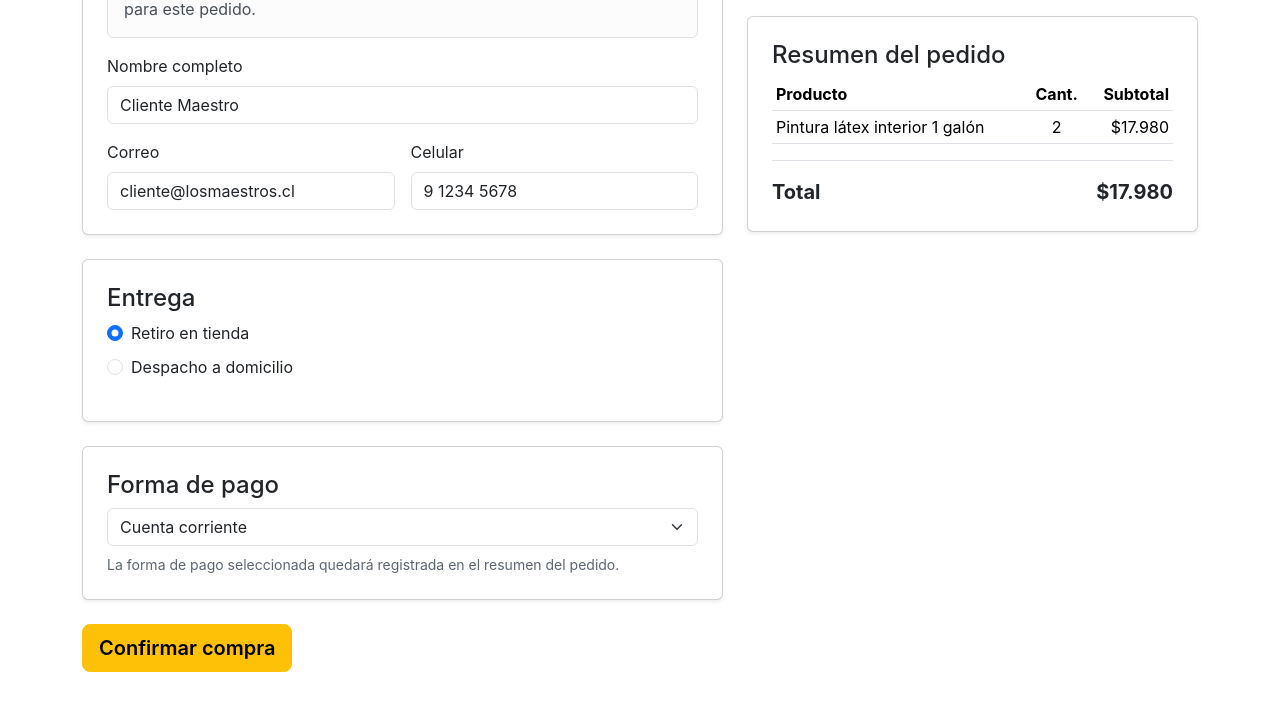
Test: Integrante 2 - Checkout y confirmación › 19. calcula el total usando la oferta, guarda el pedido, vacía el carrito y muestra la confirmación
(page scrolled)
Expected: the text "$17.980" is shown 2 times, x1=1086 y1=110 x2=1173 y2=143; x1=1096 y1=177 x2=1173 y2=207
Step 1. Click the button "Confirmar compra" → click(187, 648), box x1=82 y1=624 x2=292 y2=672
(page scrolled)
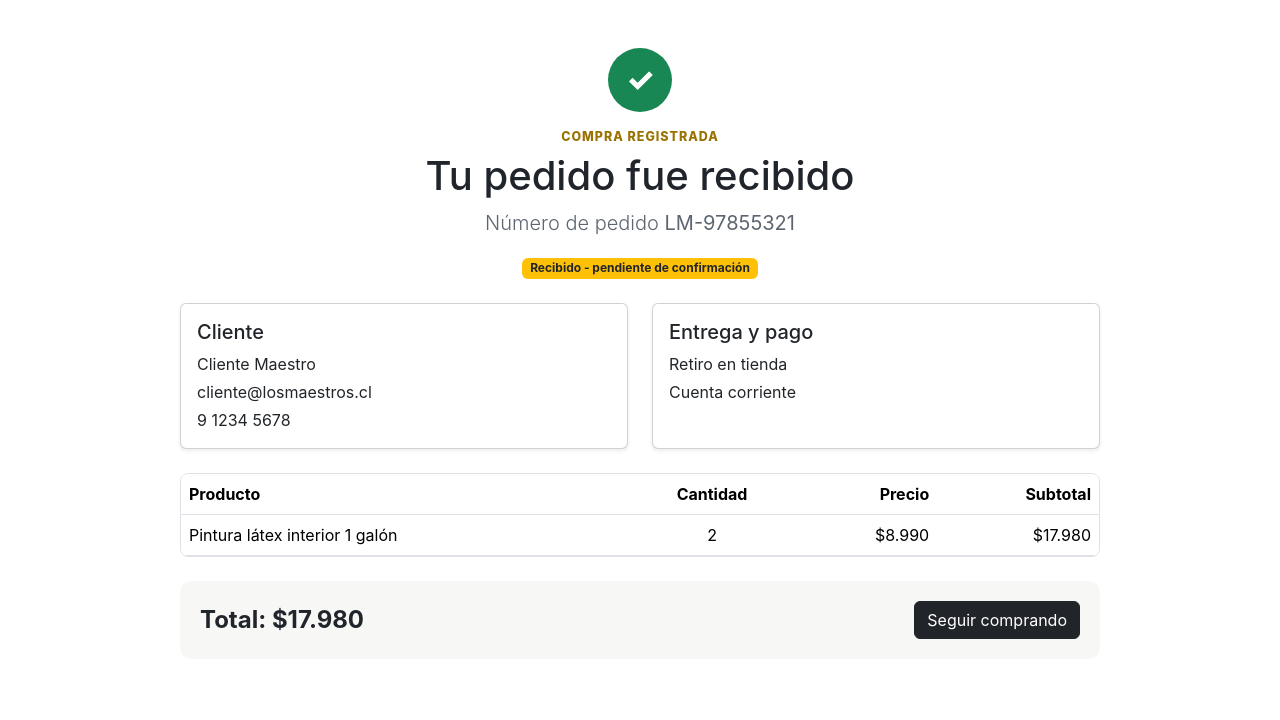
Expected: the heading "Tu pedido fue recibido" is shown, x1=426 y1=151 x2=854 y2=200
Expected: the text "Cuenta corriente" is shown, x1=669 y1=382 x2=796 y2=402
